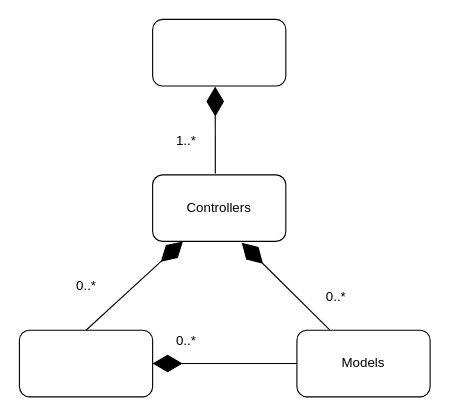
Some shapes in this 450 by 416 pixel diagram are drawn without their labels. Each missing label, with the centre of its shape:
"Scripts" belongs at point (219, 52).
"Views" belongs at point (85, 363).
